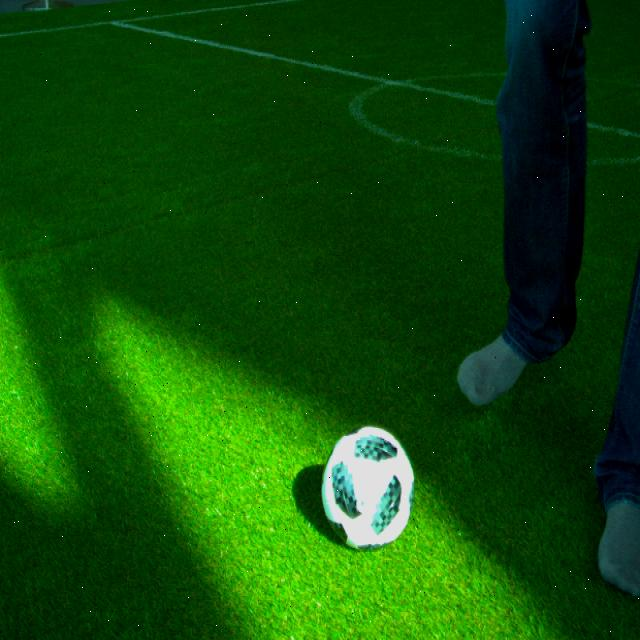ball: (321, 425, 415, 551)
